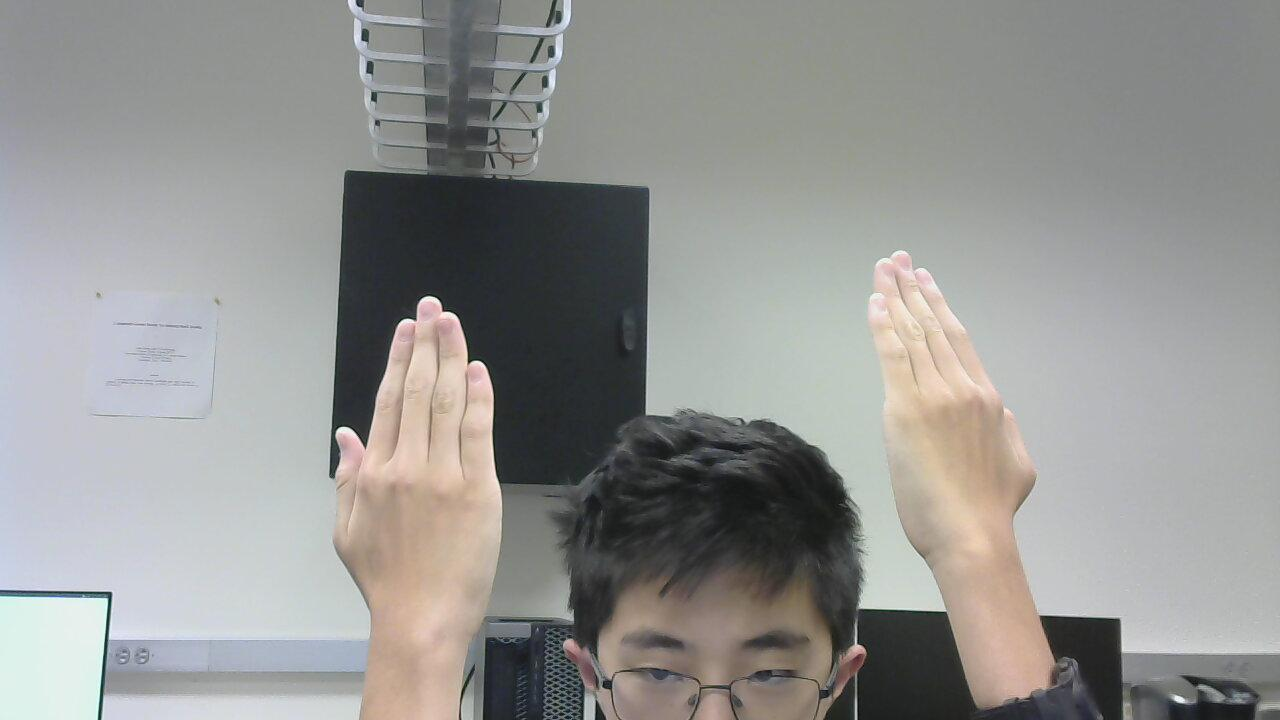hands: (324, 295, 516, 636), (865, 246, 1060, 568)
